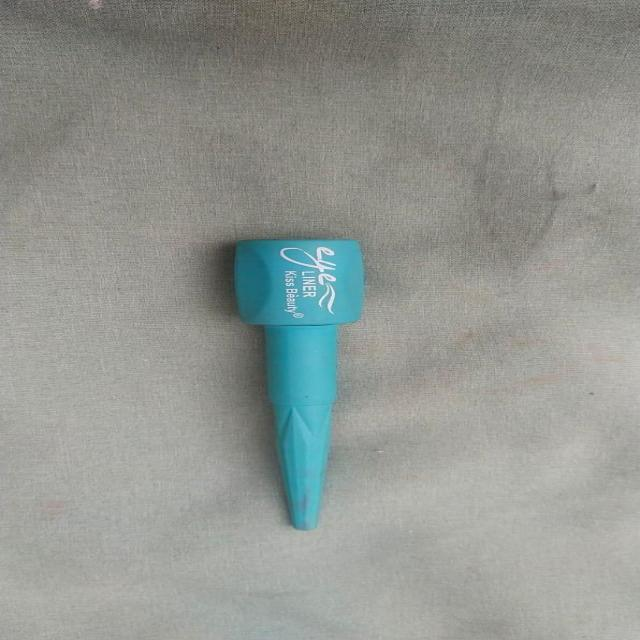nail polish: (191, 222, 389, 538)
